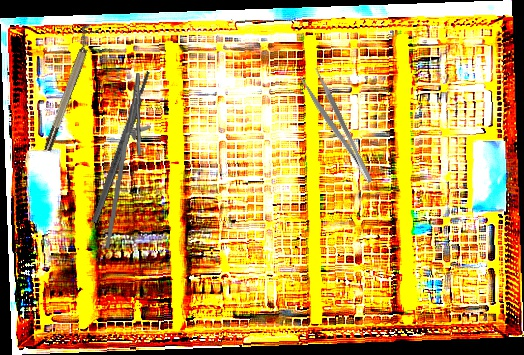Dressing Forceps: (298, 66, 376, 190)
Fixation Ring: (36, 22, 101, 153)
Needle Holder: (104, 71, 155, 251)
Scalpel Handle: (89, 70, 154, 224)
